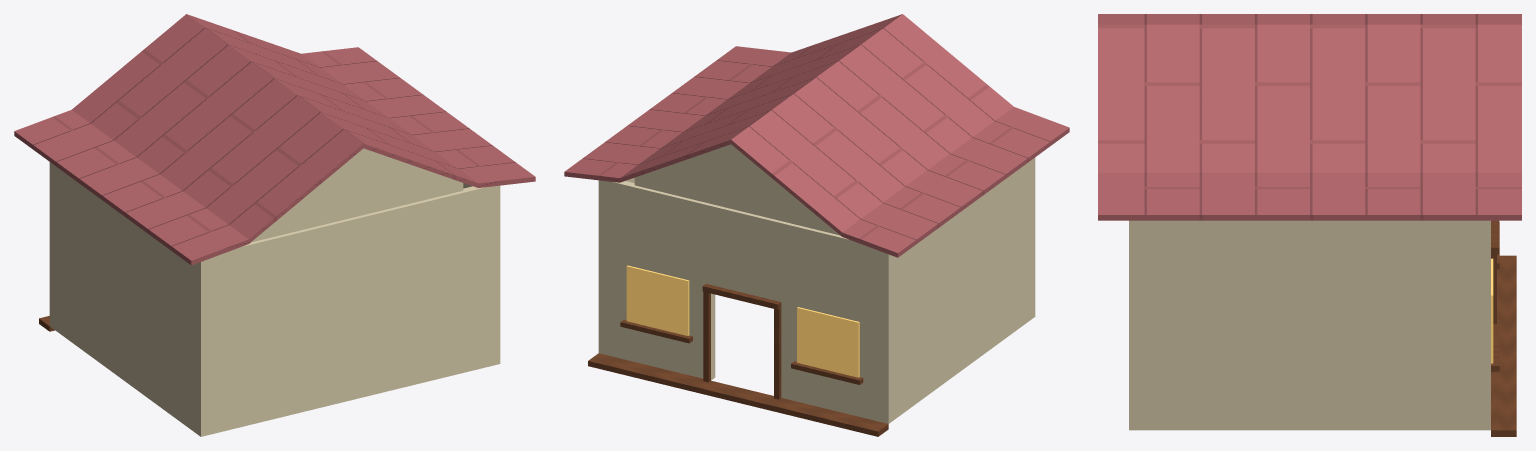
Rendered from blossom_bistro_exterior_lod2.glb.
3 views of the same model, side by side, from view 1: azimuth 30°, elevation 25°; view 2: azimuth 150°, elevation 25°; view 3: azimuth 270°, elevation 25° (orthographic). The views are drawn at different scales.
Visible parts, largest first — view 1: blossom_bistro_exterior_lod2.004; view 2: blossom_bistro_exterior_lod2.004; view 3: blossom_bistro_exterior_lod2.004.
Boxes of the visible parts, x1,y1,x2,y2 form: blossom_bistro_exterior_lod2.004: (14,14,535,436); blossom_bistro_exterior_lod2.004: (564,14,1069,436); blossom_bistro_exterior_lod2.004: (1098,14,1521,436).
Size of the model in its own units: 9.2 by 6.94 by 8.2.
Materials: 1 (1 with a texture image).
